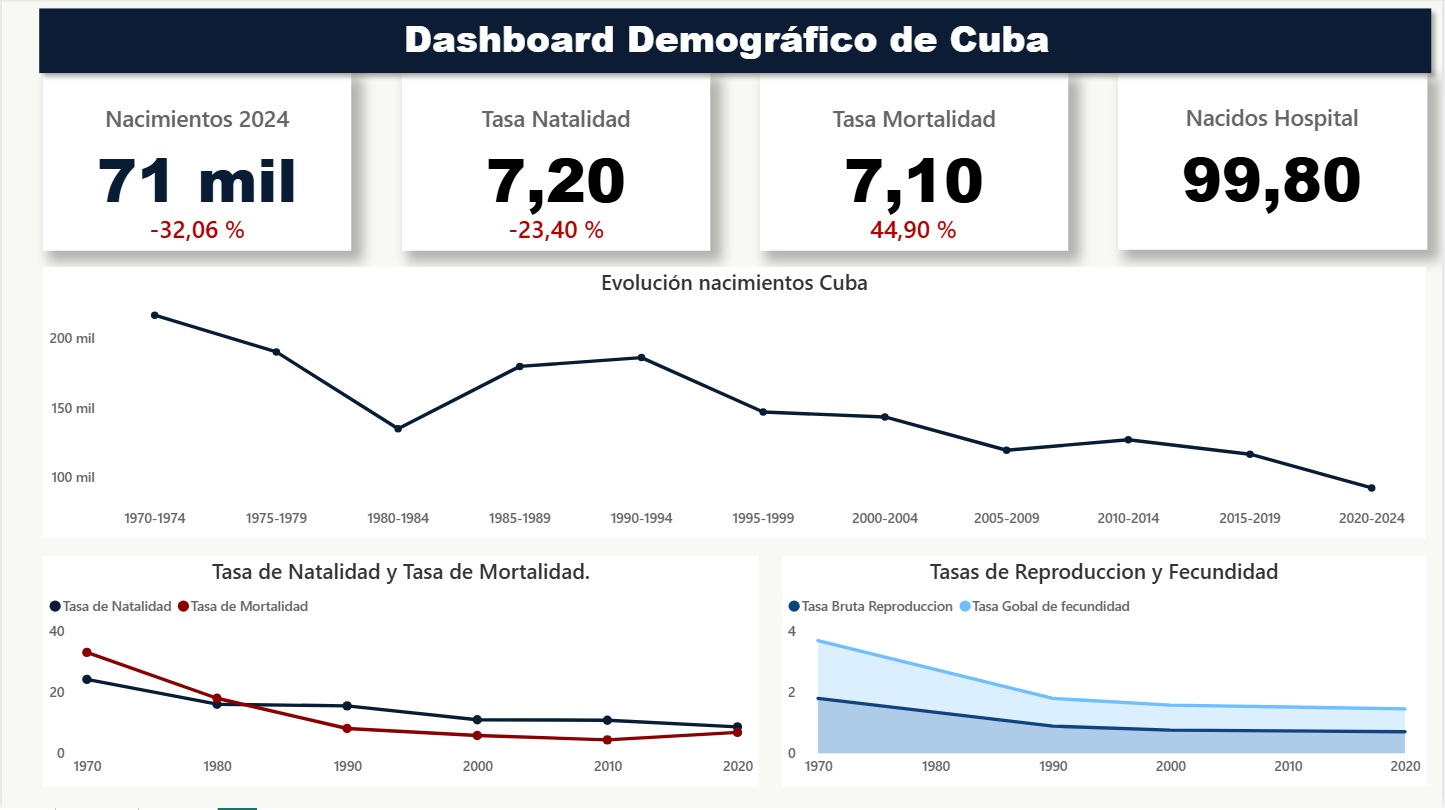

The dashboard page shown, as its layout file describes it:
{"tool":"powerbi","page":{"name":"Natalidad","canvas":[1280,720],"ordinal":0},"visuals":[{"type":"cardVisual","fields":{"Data":["Avg(Natalidad por Año.TasaNat)"]},"box":[355.1,66.3,274.4,158.4],"z":0},{"type":"cardVisual","fields":{"Data":["Sum(Natalidad por Año.TotalNV)"]},"box":[36.8,66.3,274.4,158.4],"z":1000},{"type":"cardVisual","fields":{"Data":["Sum(Indicadores Mortalidad.Tasa Mortalidad)"]},"box":[673.5,66.3,274.4,158.4],"z":2000},{"type":"cardVisual","fields":{"Data":["Avg(Natalidad por Año.TasaNHosp)"]},"box":[991.9,65.9,274.7,158.5],"z":3000},{"type":"lineChart","title":"Evolución nacimientos Cuba","fields":{"Y":["Avg(Natalidad por Año.NacidosH)"],"Category":["Natalidad por Año.quinquenio"]},"box":[36.8,239.4,1229.4,241.3],"z":4000},{"type":"shape","box":[24.3,0,1255.7,75.9],"z":5000},{"type":"textbox","box":[123.3,8,1041.4,58.2],"z":6000},{"type":"lineChart","title":"Tasa de Natalidad y Tasa de Mortalidad.","fields":{"Y":["Avg(Natalidad por Año.TasaNat)","Avg(Indicadores Mortalidad.Tasa Mortalidad)"],"Category":["Dim_Anos.Decada"]},"box":[36.8,496.3,636.3,205.4],"z":7000},{"type":"areaChart","title":"Tasas de Reproduccion y Fecundidad ","fields":{"Category":["Dim_Anos.Decada"],"Y":["Avg(TasaB.Tasa)"],"Series":["TasaB.Indicador"]},"box":[693.4,496.3,572.8,205.4],"z":8000},{"type":"card","fields":{"Values":["Natalidad por Año.Variacion"]},"box":[36.8,179.6,274.4,53.4],"z":9000},{"type":"card","fields":{"Values":["Natalidad por Año.VarNat"]},"box":[355.5,179.6,274.4,53.4],"z":11000},{"type":"card","fields":{"Values":["Natalidad por Año.VarMort"]},"box":[673.2,179.6,274.4,53.4],"z":12000}]}

Visuals, with their boxes in screenshot pixels (x1, y1, x2, y2), scaled from the page's 1280x720 canvas onto the 1445x810 screenshot:
cardVisual - Avg(Natalidad por Año.TasaNat): <bbox>401, 75, 711, 253</bbox>
cardVisual - Sum(Natalidad por Año.TotalNV): <bbox>42, 75, 351, 253</bbox>
cardVisual - Sum(Indicadores Mortalidad.Tasa Mortalidad): <bbox>760, 75, 1070, 253</bbox>
cardVisual - Avg(Natalidad por Año.TasaNHosp): <bbox>1120, 74, 1430, 252</bbox>
"Evolución nacimientos Cuba" lineChart: <bbox>42, 269, 1429, 541</bbox>
shape: <bbox>27, 0, 1444, 85</bbox>
textbox: <bbox>139, 9, 1315, 74</bbox>
"Tasa de Natalidad y Tasa de Mortalidad." lineChart: <bbox>42, 558, 760, 789</bbox>
"Tasas de Reproduccion y Fecundidad " areaChart: <bbox>783, 558, 1429, 789</bbox>
card - Natalidad por Año.Variacion: <bbox>42, 202, 351, 262</bbox>
card - Natalidad por Año.VarNat: <bbox>401, 202, 711, 262</bbox>
card - Natalidad por Año.VarMort: <bbox>760, 202, 1070, 262</bbox>
